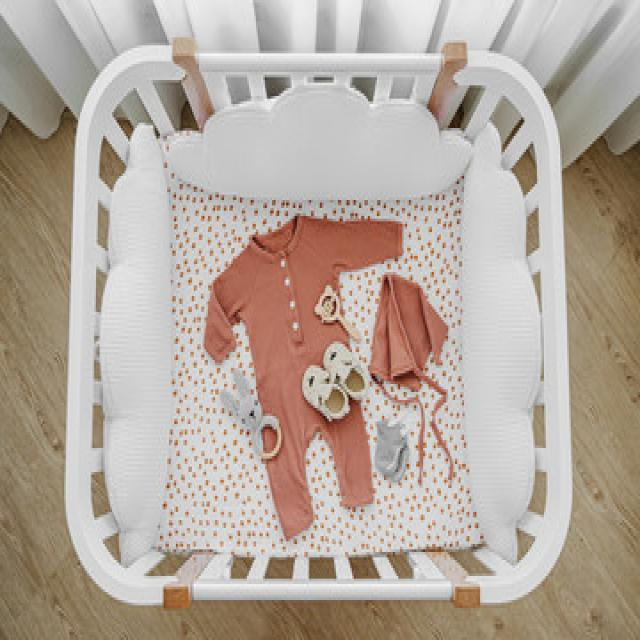crib: (62, 34, 574, 610)
